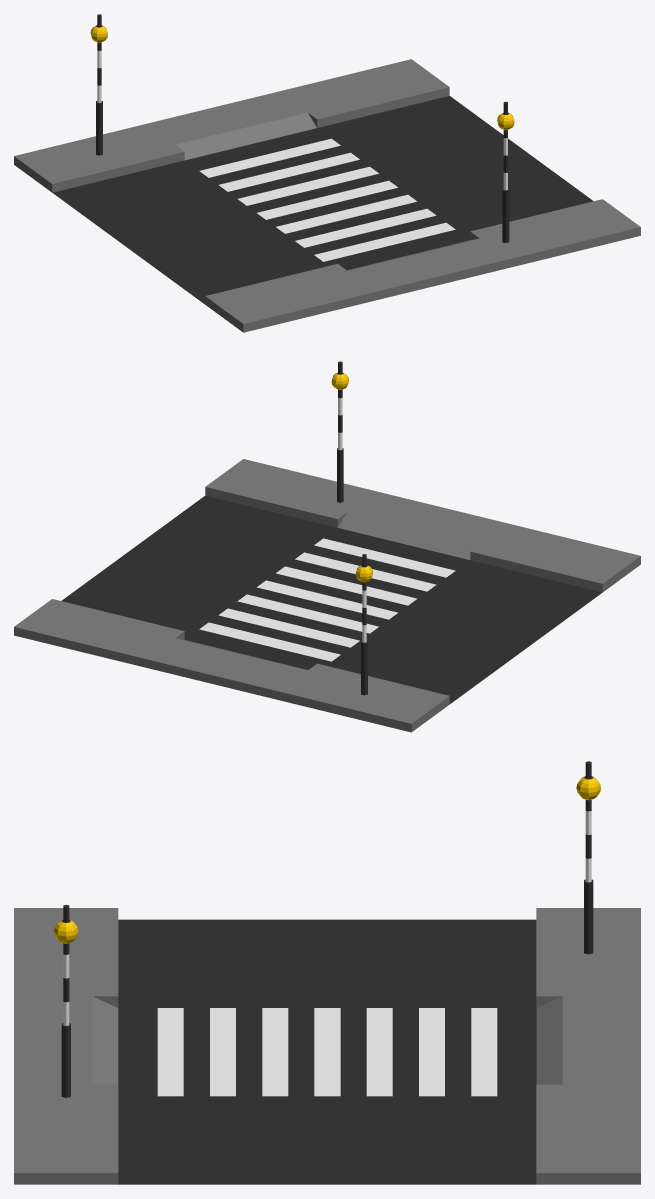
The model's file is RoadZCrossing.fbx.
3 renders of one model, top to bottom at view 1: azimuth 30°, elevation 25°; view 2: azimuth 150°, elevation 25°; view 3: azimuth 270°, elevation 25°, orthographic. The views are drawn at different scales.
Parts seen in each view (by area): view 1: RoadZCrossing, Pavement, ZCrossingLightPost2, ZCrossingLightPost1; view 2: RoadZCrossing, Pavement, ZCrossingLightPost1, ZCrossingLightPost2; view 3: RoadZCrossing, Pavement, ZCrossingLightPost2, ZCrossingLightPost1.
Part boxes in pixels (left/top/right/bottom): RoadZCrossing: left=52, top=96, right=593, bottom=304; Pavement: left=14, top=59, right=640, bottom=332; ZCrossingLightPost2: left=502, top=101, right=509, bottom=242; ZCrossingLightPost1: left=96, top=14, right=102, bottom=155; RoadZCrossing: left=61, top=495, right=602, bottom=703; Pavement: left=14, top=459, right=640, bottom=732; ZCrossingLightPost1: left=361, top=554, right=367, bottom=695; ZCrossingLightPost2: left=337, top=361, right=343, bottom=502; RoadZCrossing: left=118, top=919, right=536, bottom=1184; Pavement: left=14, top=908, right=640, bottom=1184; ZCrossingLightPost2: left=61, top=904, right=70, bottom=1097; ZCrossingLightPost1: left=584, top=761, right=593, bottom=954.
Size of the model in its own units: 24 by 8.5 by 24.
Materials: 1 (1 with a texture image).
